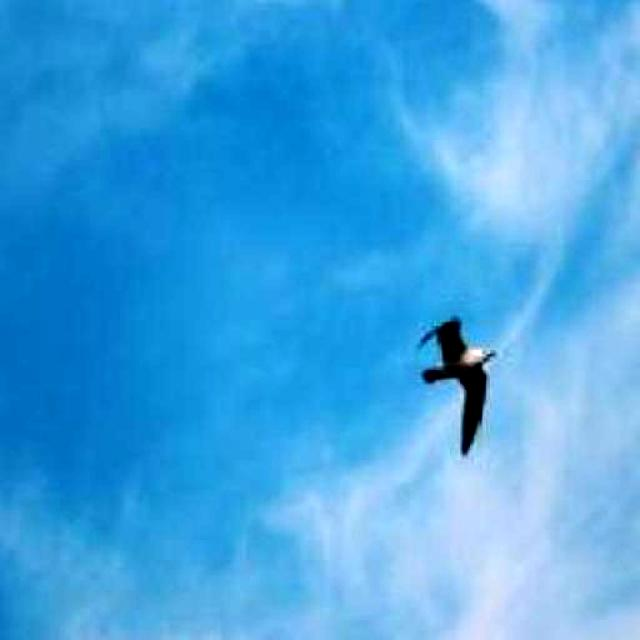airplane: (414, 318, 498, 459)
